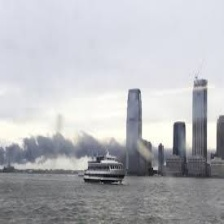smoke: (1, 130, 128, 160)
